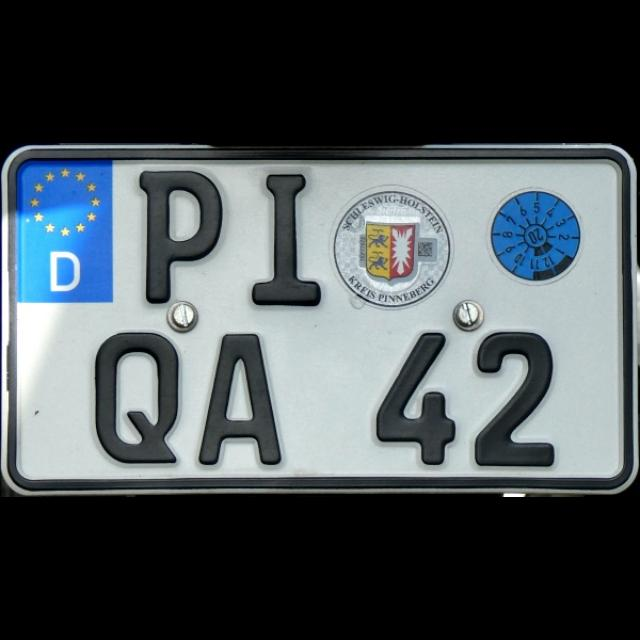d_license_plate: (6, 148, 632, 490)
